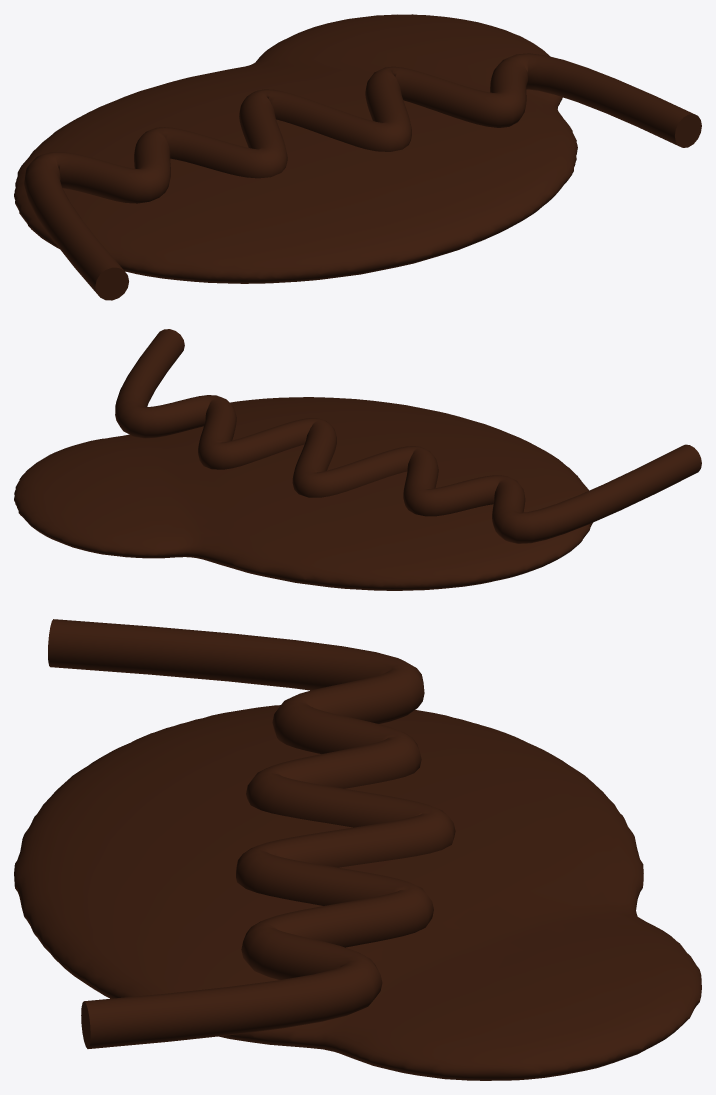
Rendered from schoko.glb.
The picture shows the model from 3 angles, top to bottom: view 1: azimuth 30°, elevation 25°; view 2: azimuth 150°, elevation 25°; view 3: azimuth 270°, elevation 25°; orthographic projection. The views are drawn at different scales.
Visible parts, largest first — view 1: p0; view 2: p0; view 3: p0.
Part boxes in pixels (x1,y1,x2,y2): p0: (14, 14, 701, 300); p0: (14, 329, 701, 590); p0: (14, 619, 701, 1080).
Size of the model in its own units: 0.0474 by 0.00609 by 0.0342.
